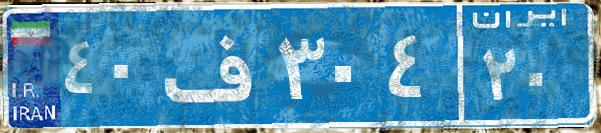0: (330, 28, 385, 110), (110, 28, 158, 105), (525, 38, 570, 115)
2: (475, 38, 525, 113)
3: (273, 28, 330, 110)
4: (385, 28, 445, 110), (57, 26, 110, 107)
ف: (158, 15, 273, 115)
